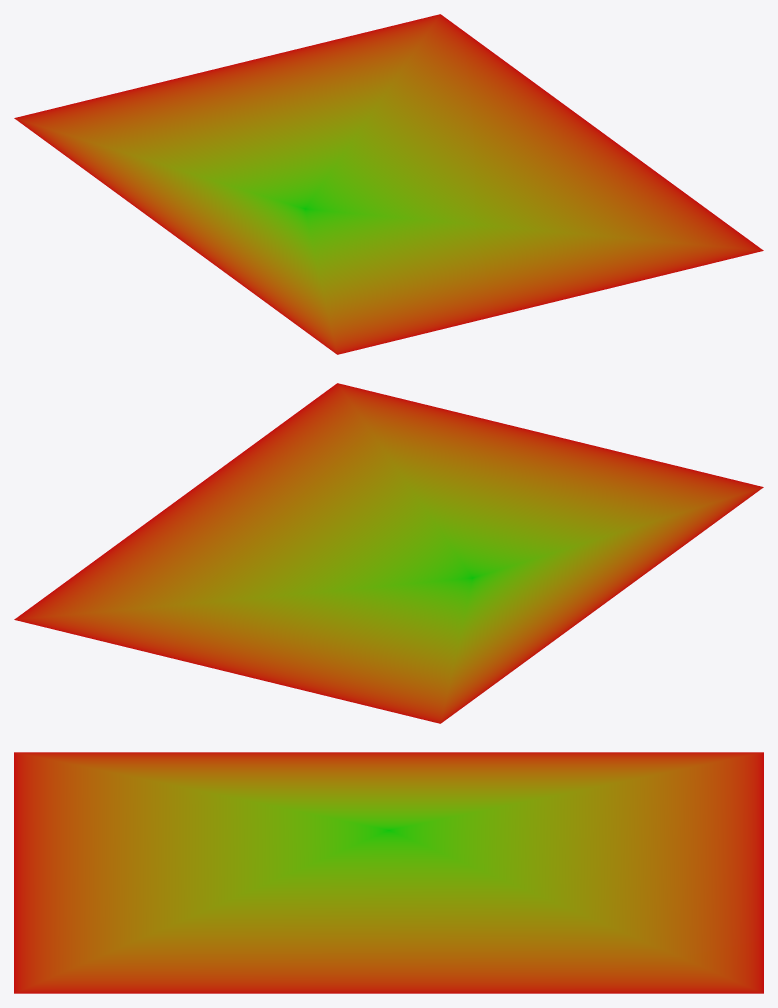
Rendered from Var6_LOD3.fbx.
3 views of the same model, one above another, from view 1: azimuth 30°, elevation 25°; view 2: azimuth 150°, elevation 25°; view 3: azimuth 270°, elevation 25° (orthographic). The views are drawn at different scales.
Parts seen in each view (by area): view 1: _fd09_Var6_LOD3; view 2: _fd09_Var6_LOD3; view 3: _fd09_Var6_LOD3.
Boxes of the visible parts, x1,y1,x2,y2 form: _fd09_Var6_LOD3: [14, 14, 763, 354]; _fd09_Var6_LOD3: [14, 383, 763, 723]; _fd09_Var6_LOD3: [14, 752, 763, 993].
Size of the model in its own units: 31.43 by 0.2895 by 41.27.
